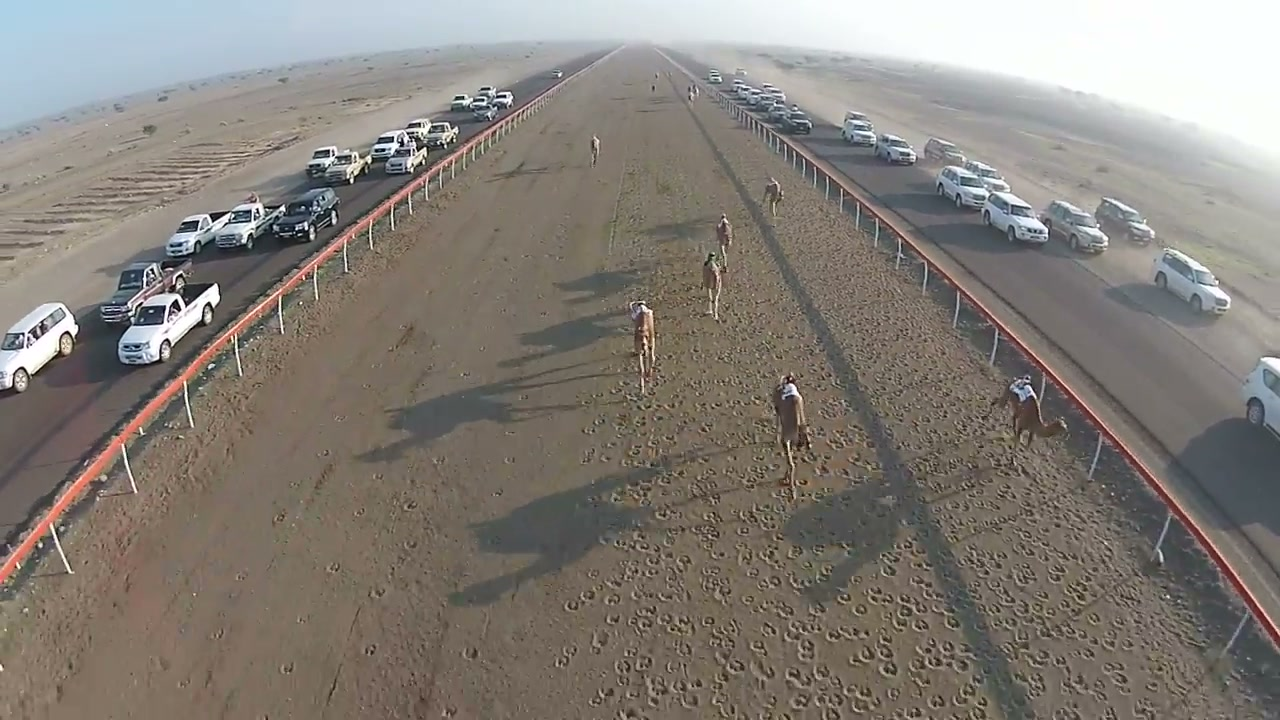animal_footprint: (980, 446, 1130, 702), (619, 373, 722, 706), (777, 460, 906, 708)
